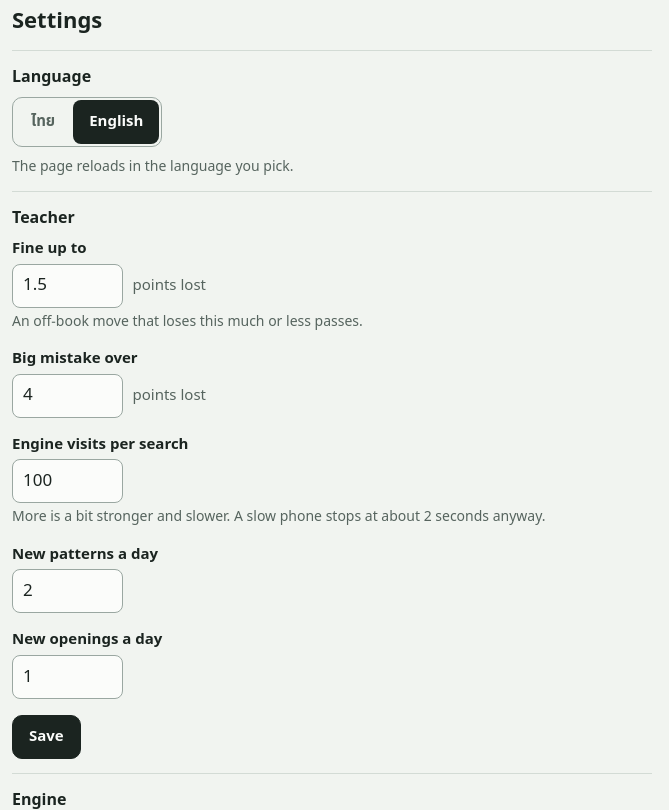
Test case: Settings › Teacher › saves thresholds, visits and new per day
Replace the text in the number field labelled "Fine up to" with "1" at (67, 286), box top-left (12, 264), bottom-right (122, 308)
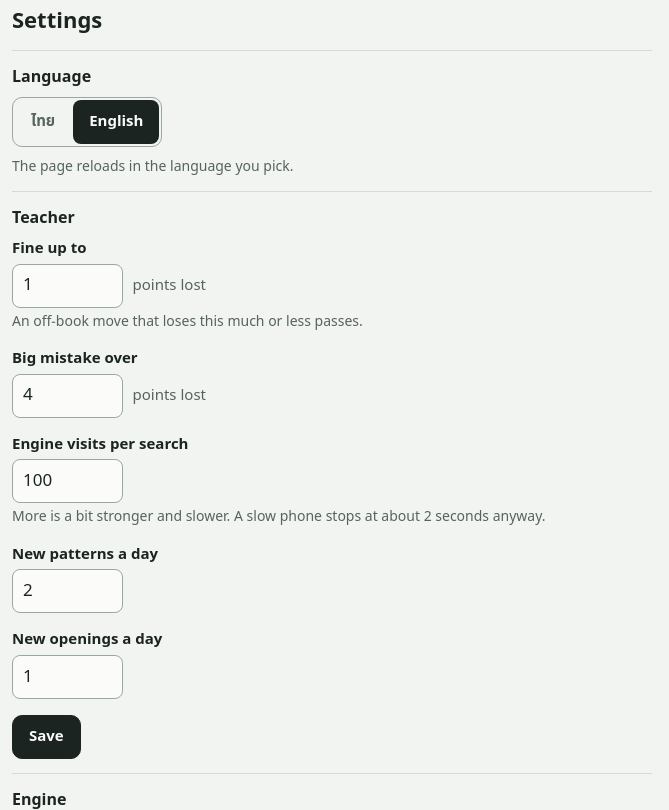
Replace the text in the number field labelled "Big mistake over" with "3.5" at (67, 396), box top-left (12, 374), bottom-right (122, 418)
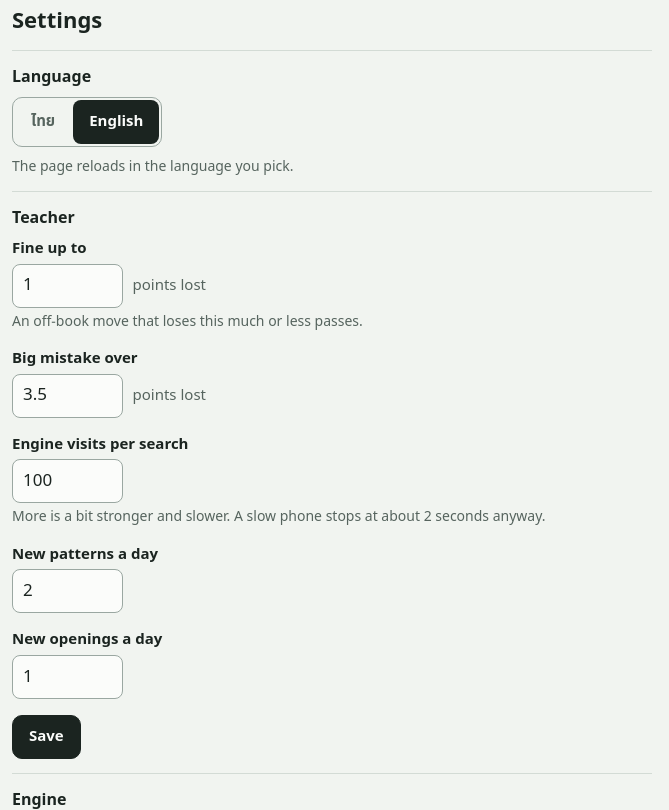
Replace the text in the number field labelled "Engine visits per search" with "200" at (67, 481), box top-left (12, 459), bottom-right (122, 503)
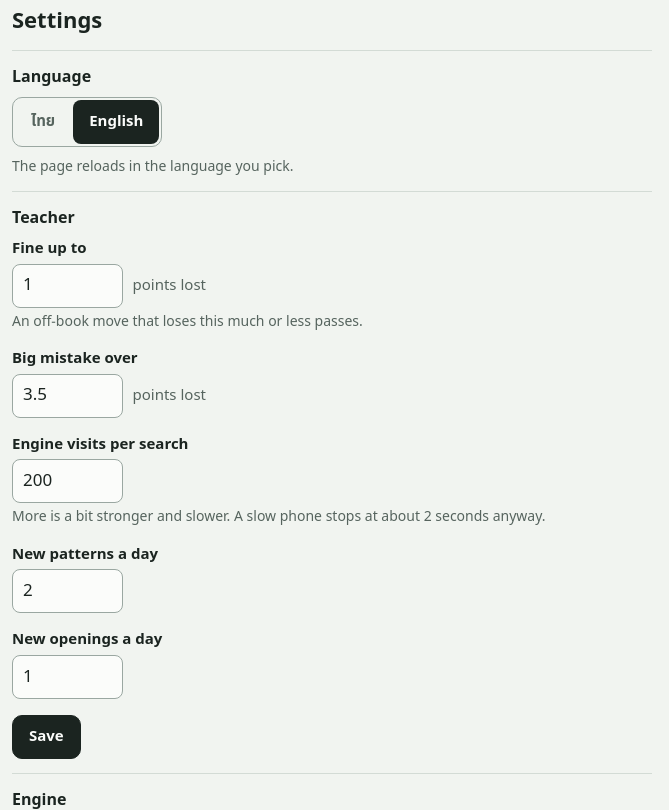
Replace the text in the number field labelled "New patterns a day" with "3" at (67, 591), box top-left (12, 569), bottom-right (122, 613)
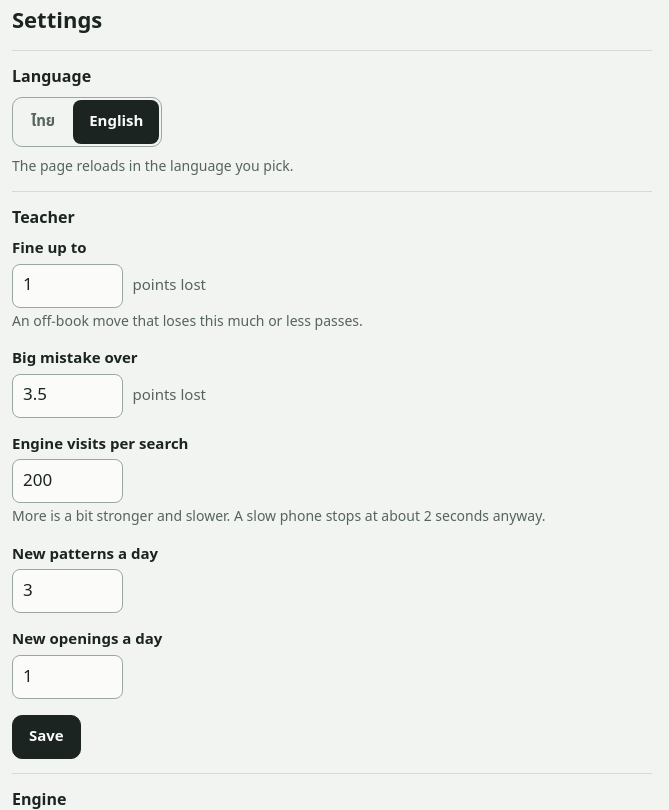
Replace the text in the number field labelled "New openings a day" with "2" at (67, 677), box top-left (12, 655), bottom-right (122, 699)
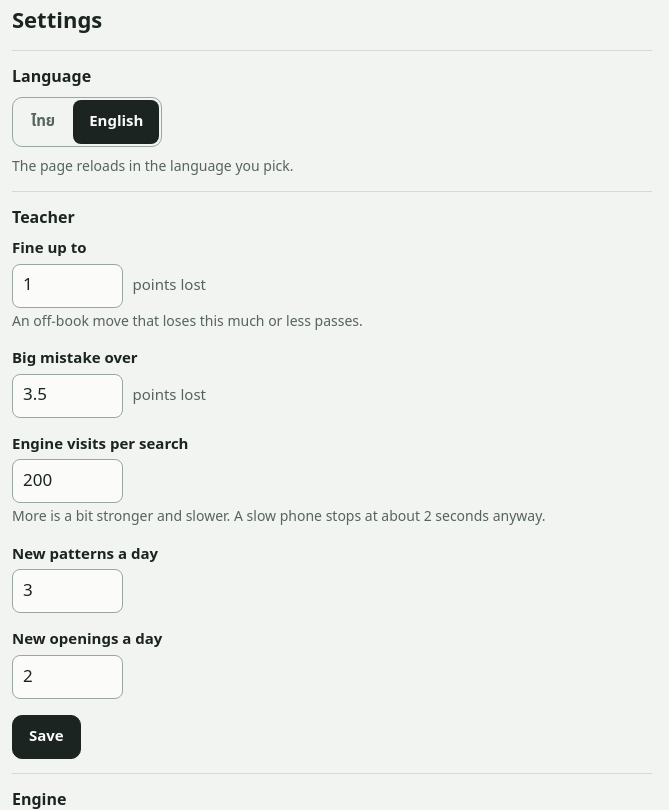
Click the button "Save" at (46, 737), box top-left (12, 715), bottom-right (81, 759)
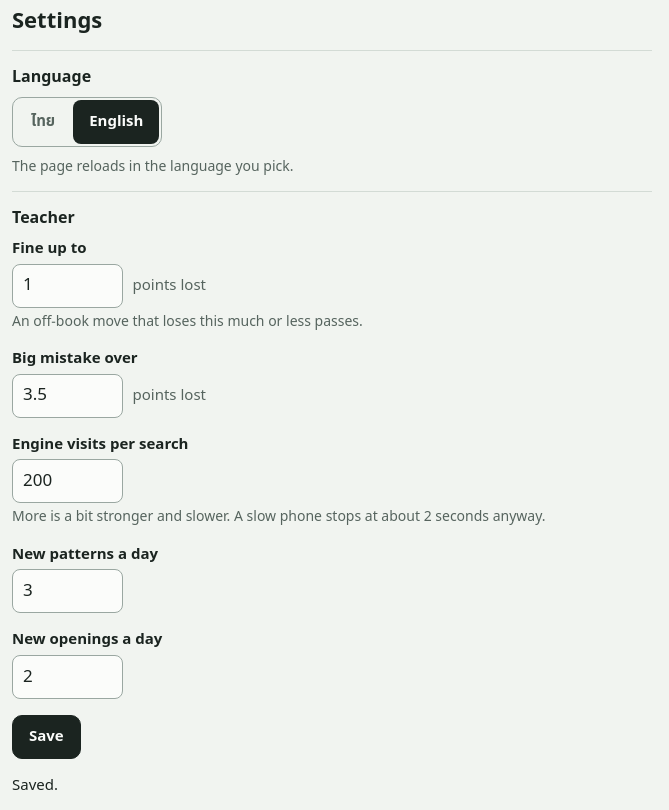
Expected: the text "Saved." is shown, top-left (12, 774), bottom-right (58, 797)
